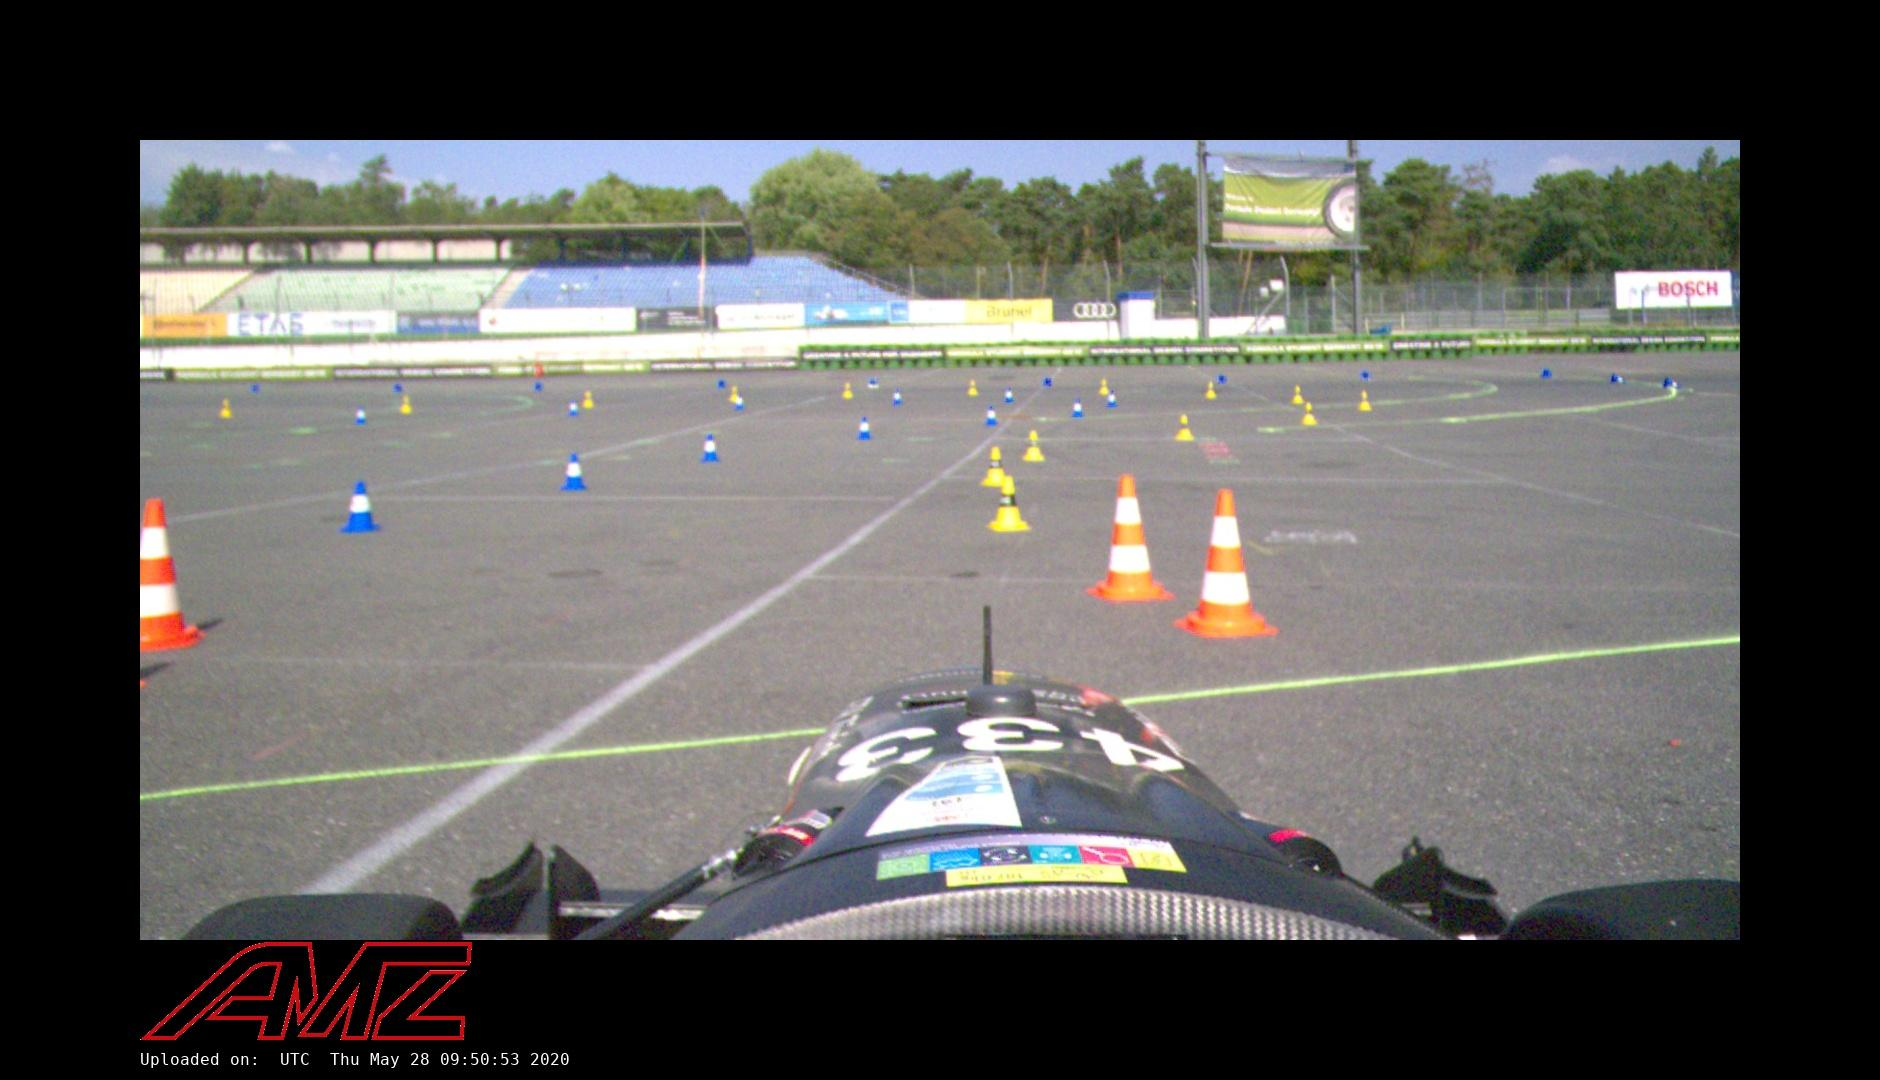blue_cone: (338, 482, 381, 532), (560, 453, 587, 492), (700, 433, 720, 462), (855, 416, 873, 442), (351, 406, 369, 426), (983, 404, 999, 426), (566, 398, 581, 419), (1070, 397, 1085, 419), (890, 388, 904, 408), (1662, 376, 1682, 389), (733, 391, 746, 411), (1107, 389, 1119, 408), (1609, 372, 1627, 385), (1002, 386, 1014, 403)
large_orange_cone: (1172, 486, 1280, 638), (1085, 473, 1178, 602), (139, 497, 203, 652)
yellow_cone: (985, 475, 1030, 534), (979, 446, 1008, 487), (1023, 429, 1045, 462), (1174, 413, 1194, 442), (1302, 400, 1320, 425), (217, 397, 234, 419), (1357, 389, 1374, 411), (398, 395, 413, 415), (580, 390, 595, 410), (1290, 385, 1305, 404), (1203, 380, 1218, 398), (966, 379, 979, 397), (1098, 379, 1110, 395), (842, 381, 853, 399), (728, 386, 741, 402)
